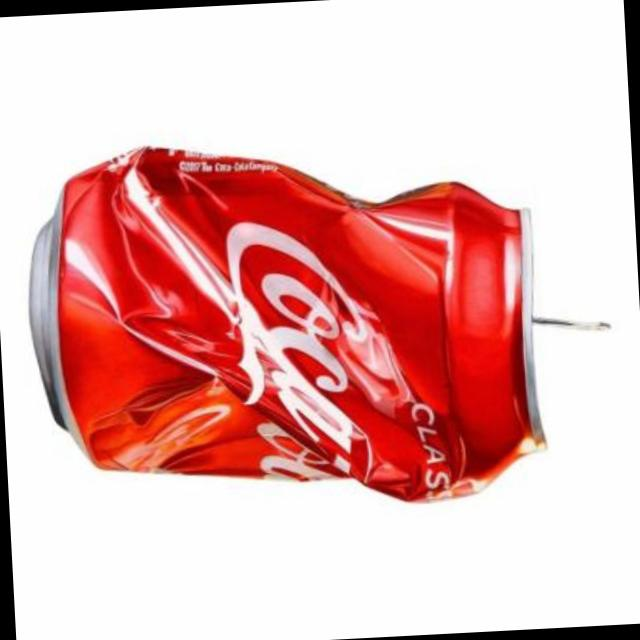metal: (35, 146, 544, 500)
